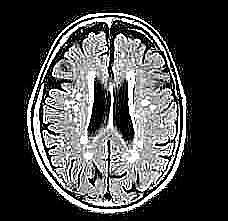Normal_Brain: (4, 4, 228, 221)
